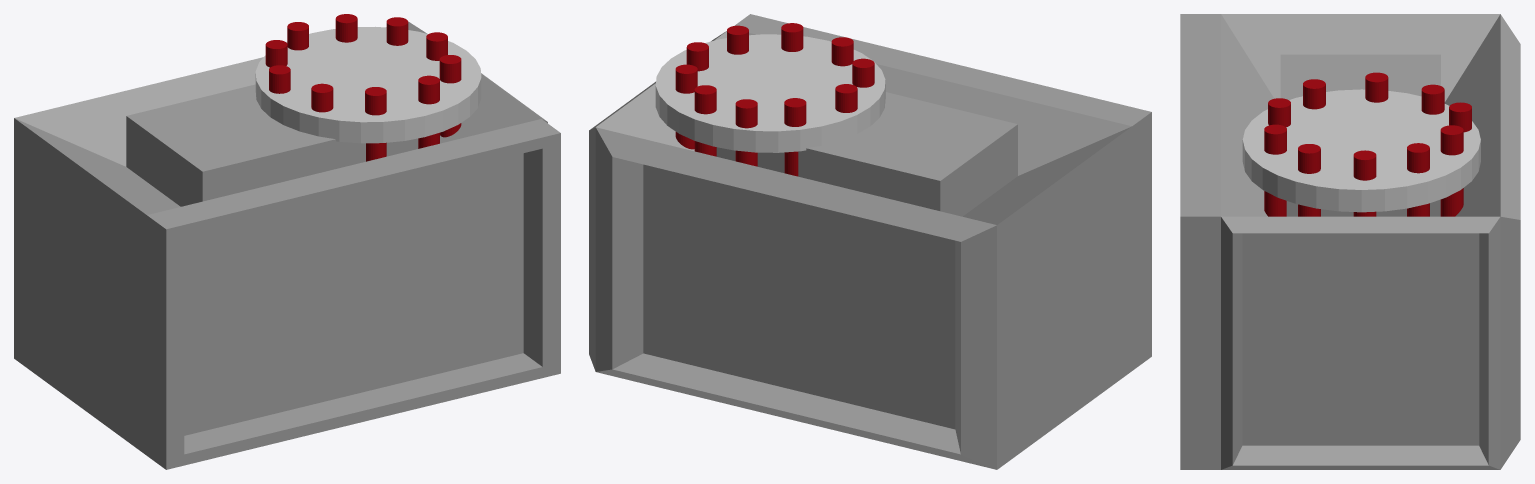
File: HiTec5b.obj
The picture shows the model from 3 angles, left to right: view 1: azimuth 30°, elevation 25°; view 2: azimuth 150°, elevation 25°; view 3: azimuth 270°, elevation 25°; orthographic projection. The views are drawn at different scales.
Parts seen in each view (by area): view 1: Cube, Cylinder, Cylinder.008_Cylinder.009; view 2: Cube, Cylinder, Cylinder.008_Cylinder.009; view 3: Cube, Cylinder, Cylinder.008_Cylinder.009.
Part boxes in pixels (x1,y1,x2,y2): Cube: (14, 21, 560, 469); Cylinder: (255, 26, 481, 143); Cylinder.008_Cylinder.009: (265, 14, 461, 161); Cube: (589, 14, 1151, 469); Cylinder: (655, 34, 885, 152); Cylinder.008_Cylinder.009: (675, 23, 874, 176); Cube: (1180, 14, 1520, 469); Cylinder: (1242, 89, 1480, 212); Cylinder.008_Cylinder.009: (1264, 72, 1471, 216).
Bounding box in the file's own units: 3.54 × 2.34 × 2.43.
